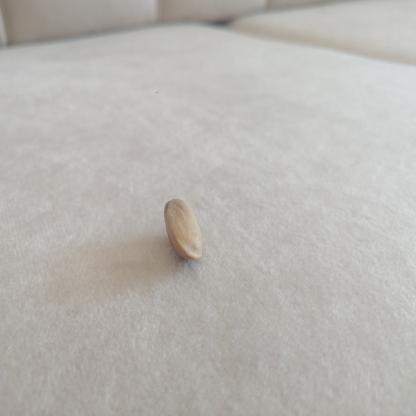pistachio: (167, 198, 207, 271)
